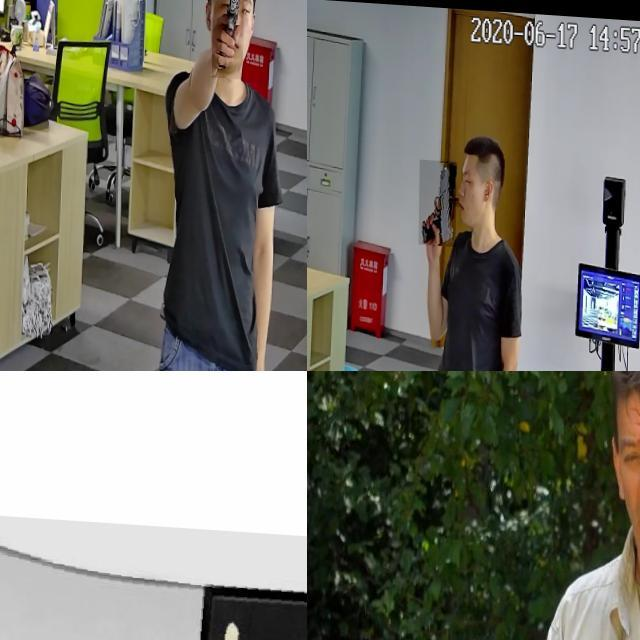-: (0, 505, 307, 640)
gun-knife-thesis - v11 Yolov5 augmented: (419, 154, 457, 241), (212, 0, 244, 74)
